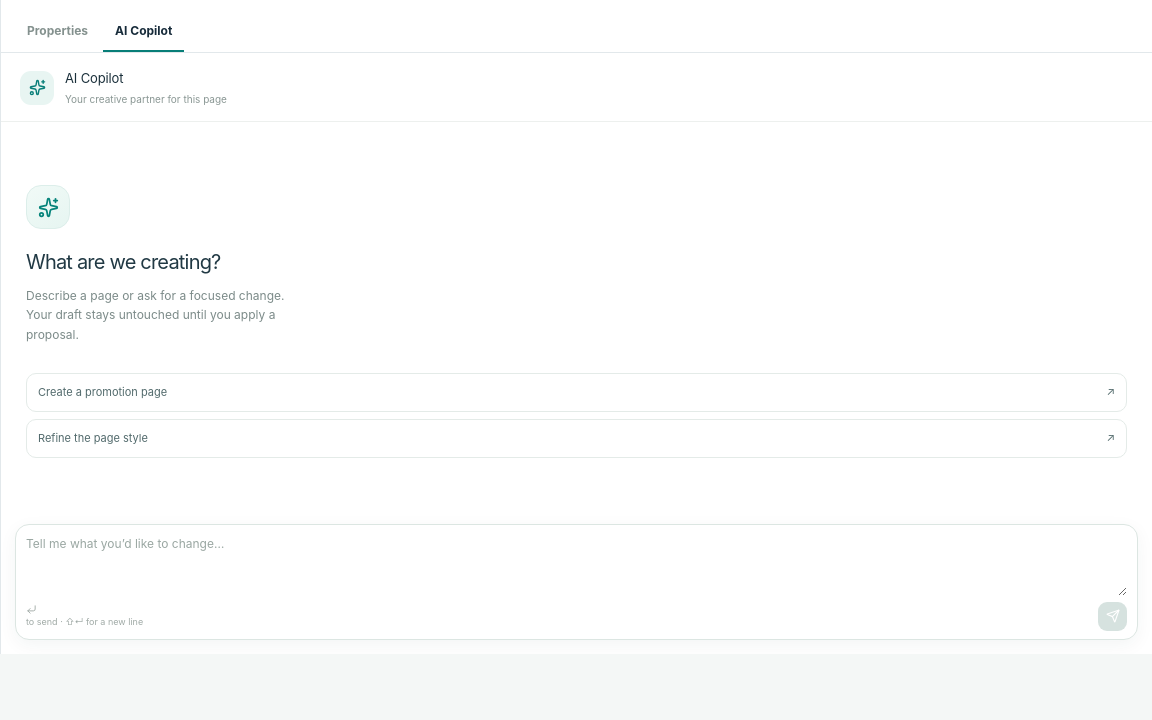
EditorSidebar › keeps Copilot open when a canvas component is selected
Click the tab "AI Copilot".
click(144, 32)  # box 103,12 -> 184,52
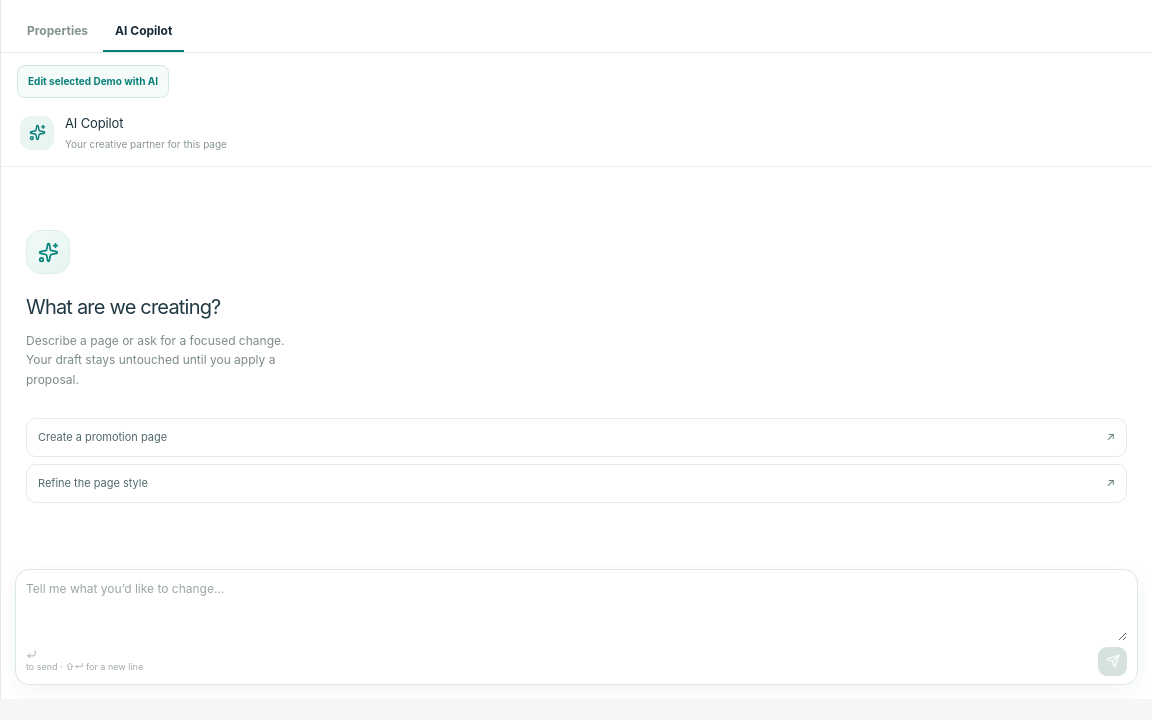
Expected: the text box named "Describe the page or change you want" is shown, 26,580 -> 1127,640
Click the tab "Properties".
click(58, 32)  # box 15,12 -> 100,52
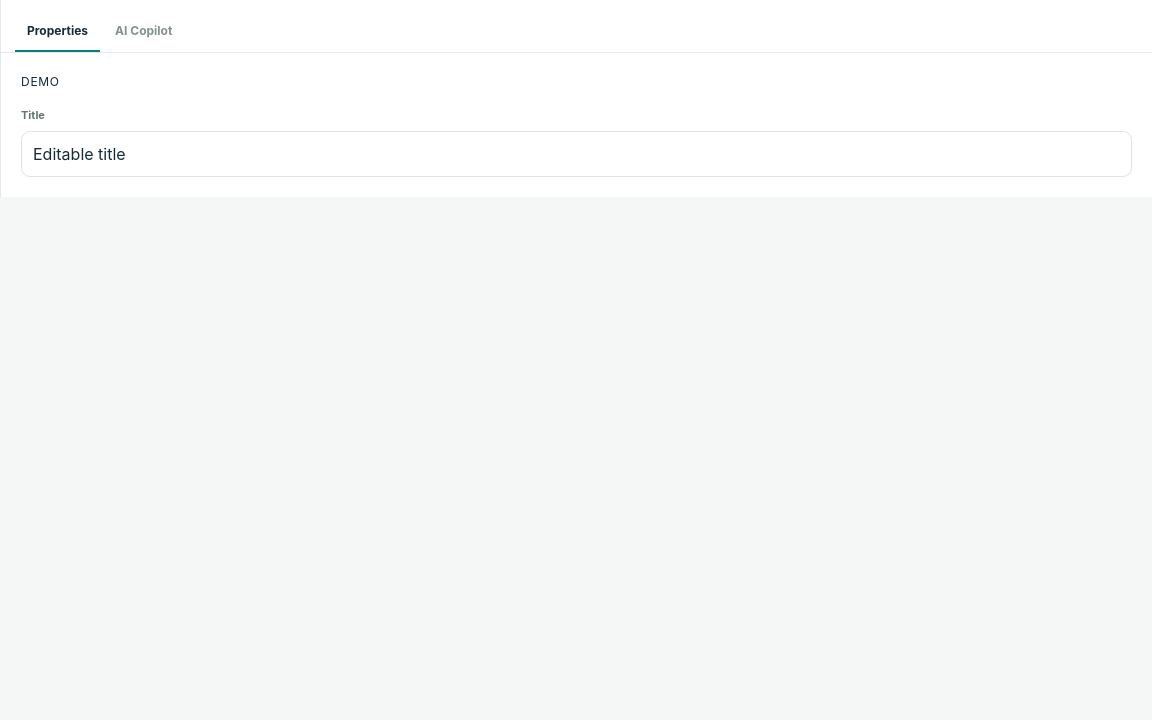
Result: the field labelled "Title" holds "Editable title" at 21,130 -> 1132,176
